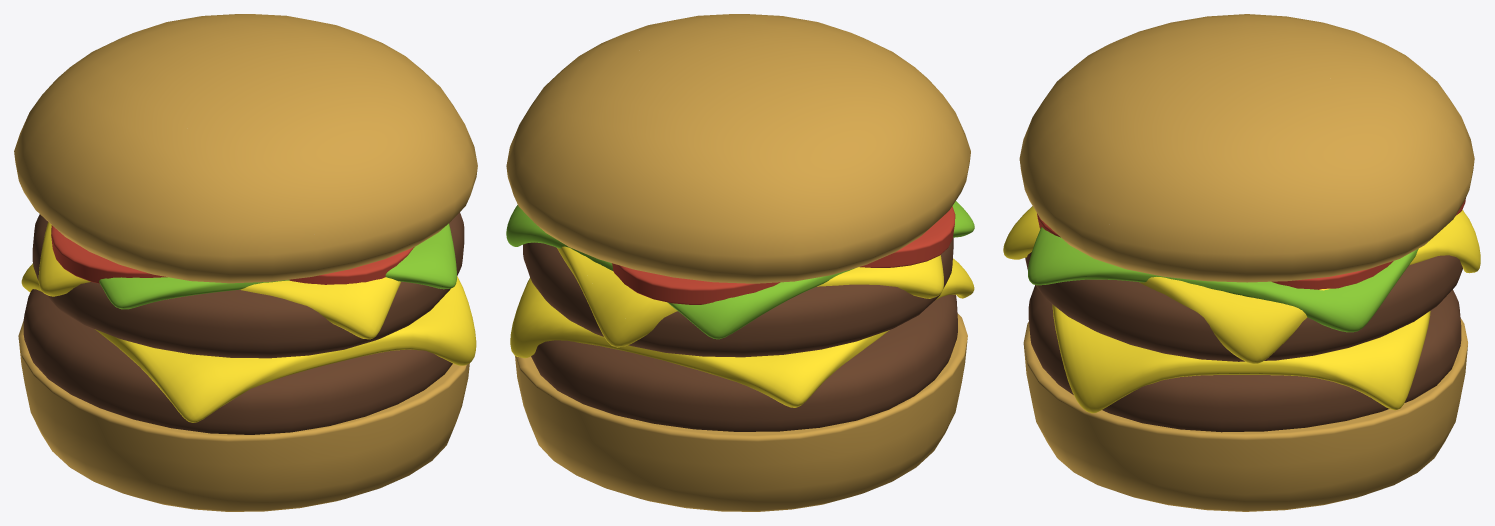
The model's file is hamburger_rootss62.fbx.
3 views of the same model, side by side, from view 1: azimuth 30°, elevation 25°; view 2: azimuth 150°, elevation 25°; view 3: azimuth 270°, elevation 25° (orthographic).
Parts seen in each view (by area): view 1: hamburger__1__sh_25, hamburger__1__sh_29, hamburger__1__sh_4, hamburger__1__sh_35, hamburger__1__sh_43, hamburger__1__sh_28, hamburger__1__sh_9, hamburger__1__sh_5, hamburger__1__sh_15, hamburger__1__sh_12, hamburger__1__sh_1, hamburger__1__sh_31 (+14 smaller); view 2: hamburger__1__sh_29, hamburger__1__sh_26, hamburger__1__sh_1, hamburger__1__sh_32, hamburger__1__sh_44, hamburger__1__sh_34, hamburger__1__sh_25, hamburger__1__sh_7, hamburger__1__sh_3, hamburger__1__sh_2, hamburger__1__sh_8, hamburger__1__sh_42 (+14 smaller); view 3: hamburger__1__sh_30, hamburger__1__sh_26, hamburger__1__sh_25, hamburger__1__sh_34, hamburger__1__sh_29, hamburger__1__sh_3, hamburger__1__sh_2, hamburger__1__sh_6, hamburger__1__sh_8, hamburger__1__sh_42, hamburger__1__sh_5, hamburger__1__sh_46 (+15 smaller).
Part boxes in pixels (x1,y1,x2,y2): hamburger__1__sh_25: (163, 39, 463, 247); hamburger__1__sh_29: (14, 22, 325, 257); hamburger__1__sh_4: (68, 396, 388, 511); hamburger__1__sh_35: (63, 323, 381, 434); hamburger__1__sh_43: (58, 282, 379, 358); hamburger__1__sh_28: (100, 209, 374, 283); hamburger__1__sh_9: (95, 329, 367, 422); hamburger__1__sh_5: (381, 363, 469, 486); hamburger__1__sh_15: (63, 278, 385, 339); hamburger__1__sh_12: (366, 276, 476, 365); hamburger__1__sh_1: (18, 321, 106, 486); hamburger__1__sh_31: (367, 156, 477, 264); hamburger__1__sh_29: (634, 42, 967, 283); hamburger__1__sh_26: (506, 53, 692, 272); hamburger__1__sh_1: (635, 378, 948, 511); hamburger__1__sh_32: (653, 330, 937, 431); hamburger__1__sh_44: (652, 284, 929, 356); hamburger__1__sh_34: (531, 340, 697, 423); hamburger__1__sh_25: (633, 14, 951, 112); hamburger__1__sh_7: (698, 330, 889, 407); hamburger__1__sh_3: (515, 356, 652, 445); hamburger__1__sh_2: (519, 386, 654, 502); hamburger__1__sh_8: (510, 277, 702, 369); hamburger__1__sh_42: (523, 242, 692, 355); hamburger__1__sh_30: (1098, 104, 1351, 282); hamburger__1__sh_26: (1276, 67, 1474, 251); hamburger__1__sh_25: (1019, 26, 1254, 207); hamburger__1__sh_34: (1181, 289, 1461, 432); hamburger__1__sh_29: (1149, 14, 1455, 110); hamburger__1__sh_3: (1194, 335, 1467, 461); hamburger__1__sh_2: (1228, 367, 1465, 511); hamburger__1__sh_6: (1064, 428, 1261, 511); hamburger__1__sh_8: (1186, 311, 1430, 410); hamburger__1__sh_42: (1188, 255, 1462, 361); hamburger__1__sh_5: (1027, 358, 1172, 468); hamburger__1__sh_46: (1027, 252, 1190, 357).
Size of the model in its own units: 408 by 387 by 416.
